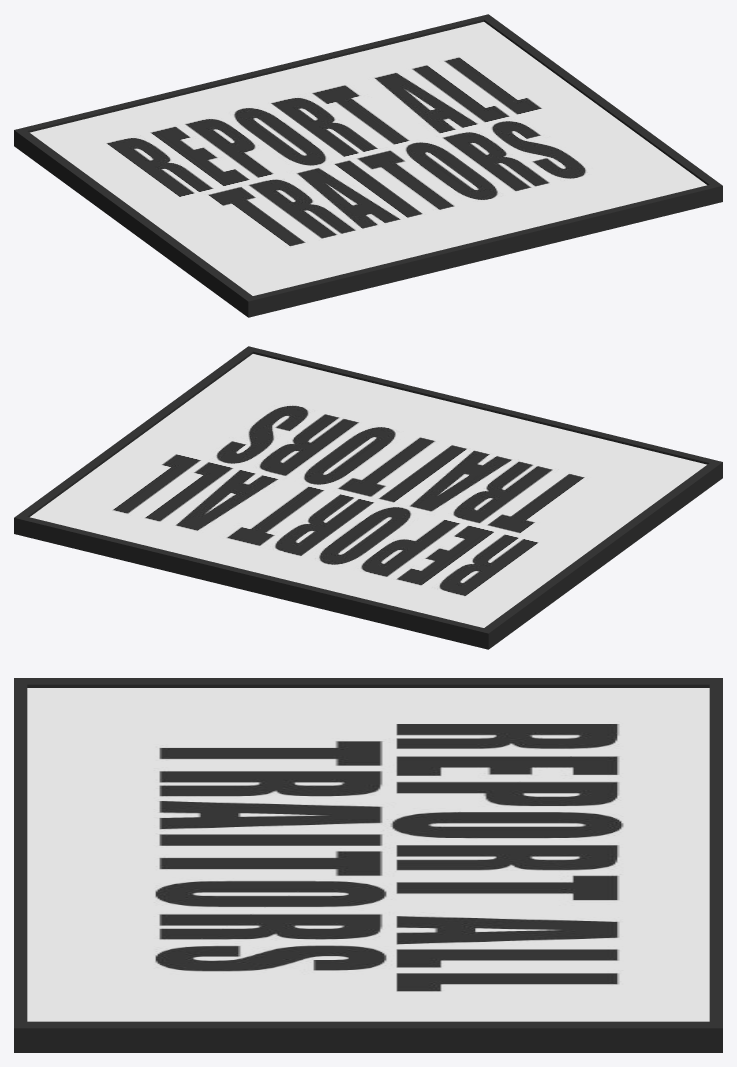
The picture shows the model from 3 angles, top to bottom: view 1: azimuth 30°, elevation 25°; view 2: azimuth 150°, elevation 25°; view 3: azimuth 270°, elevation 25°; orthographic projection. The views are drawn at different scales.
Parts seen in each view (by area): view 1: Plane; view 2: Plane; view 3: Plane.
Part boxes in pixels (x1,y1,x2,y2): Plane: [14, 14, 722, 317]; Plane: [14, 346, 722, 649]; Plane: [14, 678, 722, 1052].
Size of the model in its own units: 1610 by 52.42 by 1377.
Materials: 2 (1 with a texture image).
